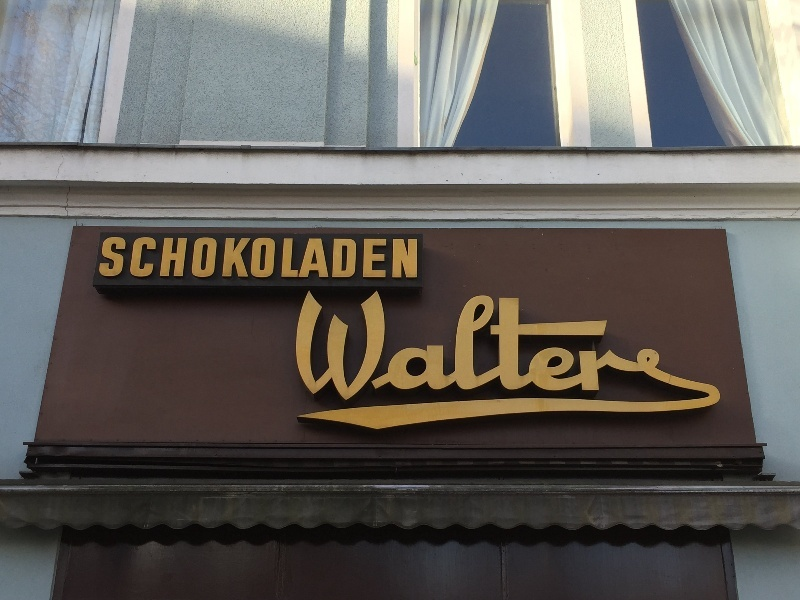text: (305, 291, 320, 436), (321, 291, 336, 436), (337, 291, 352, 436), (353, 291, 368, 436), (369, 291, 384, 436), (385, 291, 400, 436), (401, 291, 416, 436), (417, 291, 432, 436), (433, 291, 448, 436), (449, 291, 464, 436), (465, 291, 480, 436), (481, 291, 496, 436), (497, 291, 512, 436), (513, 291, 528, 436), (529, 291, 544, 436), (545, 291, 560, 436), (561, 291, 576, 436), (577, 291, 592, 436), (593, 291, 608, 436), (609, 291, 624, 436), (625, 291, 640, 436), (641, 291, 656, 436), (657, 291, 672, 436), (673, 291, 688, 436), (689, 291, 704, 436), (705, 291, 720, 436), (721, 291, 736, 436), (296, 291, 304, 436), (113, 235, 128, 280), (129, 235, 144, 280), (145, 235, 160, 280), (161, 235, 176, 280), (177, 235, 192, 280), (193, 235, 208, 280), (209, 235, 224, 280), (225, 235, 240, 280), (241, 235, 256, 280), (257, 235, 272, 280), (273, 235, 288, 280), (289, 235, 304, 280), (305, 235, 320, 280), (321, 235, 336, 280), (337, 235, 352, 280), (353, 235, 368, 280), (369, 235, 384, 280), (385, 235, 400, 280), (401, 235, 416, 280), (737, 291, 741, 436), (101, 235, 112, 280), (417, 235, 419, 280)
